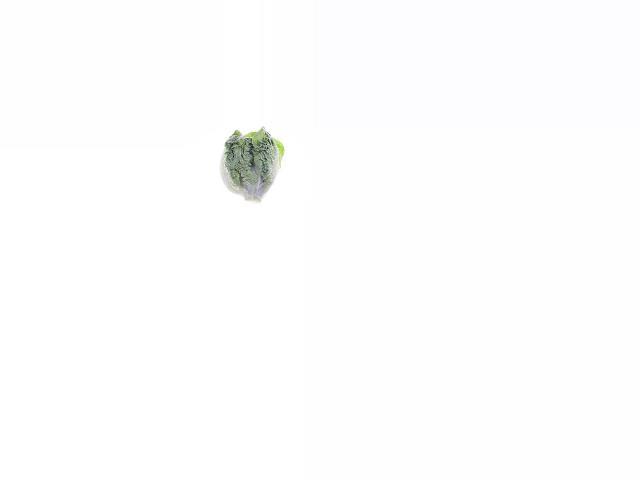lettuce: (217, 128, 287, 202)
